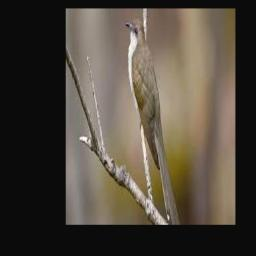Cuckoo: (124, 19, 179, 225)
